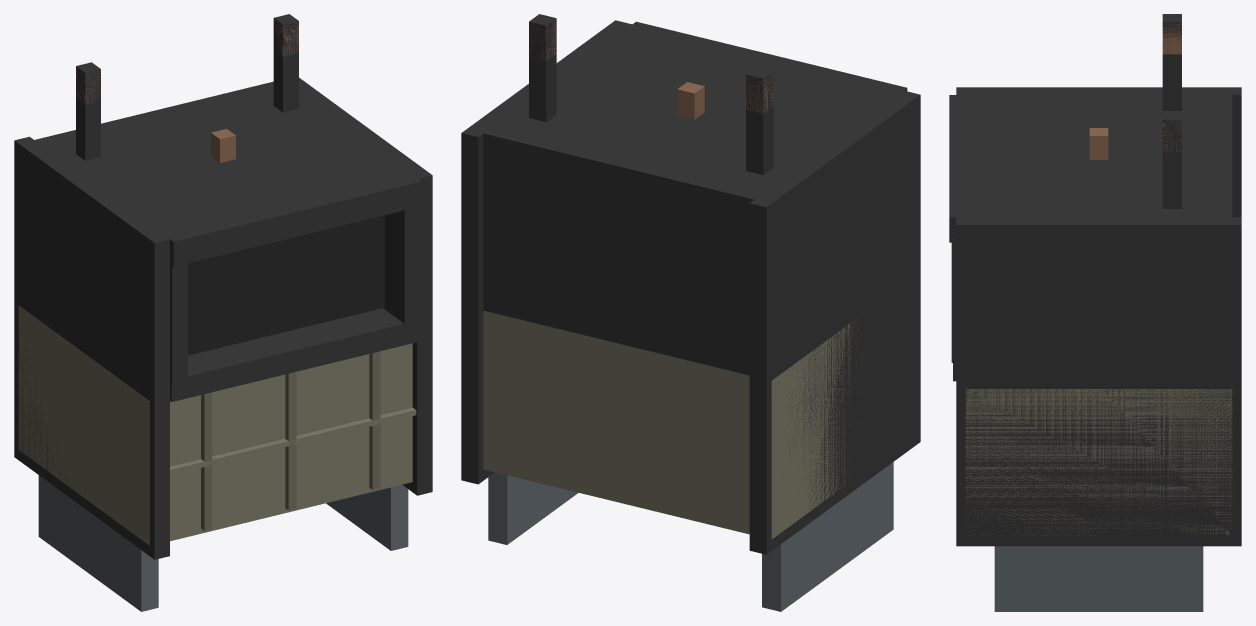
File: CMU3DDropshipSpotlightCloud.glb
The picture shows the model from 3 angles, left to right: view 1: azimuth 30°, elevation 25°; view 2: azimuth 150°, elevation 25°; view 3: azimuth 270°, elevation 25°; orthographic projection. The views are drawn at different scales.
Visible parts, largest first — view 1: collapsed lower spotlight bank, light upper hood, spotlight outer side rail -0.28125, unlit recessed lens, light lower hood, spotlight resting foot -0.27, spotlight outer side rail 0.25, light side hood 0.22, spotlight resting foot 0.235, rear connector stalk 0.2, rear connector stalk -0.2, lower bank horizontal division (+5 smaller); view 2: spotlight outer side rail -0.28125, collapsed lower spotlight bank, upper light rear body, light upper hood, spotlight outer side rail 0.25, spotlight resting foot -0.27, light lower hood, spotlight resting foot 0.235, rear connector stalk 0.2, rear connector stalk -0.2, central small top connector, light side hood -0.25 (+1 smaller); view 3: spotlight outer side rail 0.25, light upper hood, collapsed lower spotlight bank, spotlight resting foot 0.235, spotlight outer side rail -0.28125, rear connector stalk 0.2, rear connector stalk -0.2, light side hood 0.22, central small top connector, rear connector tip -0.2.
Boxes of the visible parts, x1,y1,x2,y2 form: collapsed lower spotlight bank: (18, 305, 412, 545); light upper hood: (34, 81, 420, 266); spotlight outer side rail -0.28125: (14, 136, 169, 559); unlit recessed lens: (187, 215, 384, 355); light lower hood: (170, 308, 418, 401); spotlight resting foot -0.27: (38, 475, 158, 611); spotlight outer side rail 0.25: (299, 77, 432, 495); light side hood 0.22: (383, 206, 419, 327); spotlight resting foot 0.235: (326, 485, 408, 550); rear connector stalk 0.2: (273, 14, 298, 112); rear connector stalk -0.2: (76, 62, 100, 160); lower bank horizontal division: (170, 407, 416, 475); spotlight outer side rail -0.28125: (749, 90, 920, 554); collapsed lower spotlight bank: (483, 310, 862, 539); upper light rear body: (483, 140, 749, 371); light upper hood: (483, 21, 907, 223); spotlight outer side rail 0.25: (461, 20, 631, 484); spotlight resting foot -0.27: (762, 462, 893, 611); light lower hood: (483, 288, 749, 375); spotlight resting foot 0.235: (488, 472, 578, 544); rear connector stalk 0.2: (529, 14, 556, 122); rear connector stalk -0.2: (746, 67, 773, 174); central small top connector: (677, 82, 704, 119); light side hood -0.25: (737, 221, 749, 355); spotlight outer side rail 0.25: (956, 217, 1241, 546); light upper hood: (949, 95, 1232, 242); collapsed lower spotlight bank: (965, 389, 1232, 535); spotlight resting foot 0.235: (994, 546, 1203, 611); spotlight outer side rail -0.28125: (956, 87, 1241, 217); rear connector stalk 0.2: (1162, 112, 1181, 208); rear connector stalk -0.2: (1162, 14, 1181, 110); light side hood 0.22: (951, 239, 956, 362); central small top connector: (1089, 128, 1108, 159); rear connector tip -0.2: (1162, 22, 1181, 54).
Bounding box in the file's own units: 0.5625 × 0.912 × 0.504.
